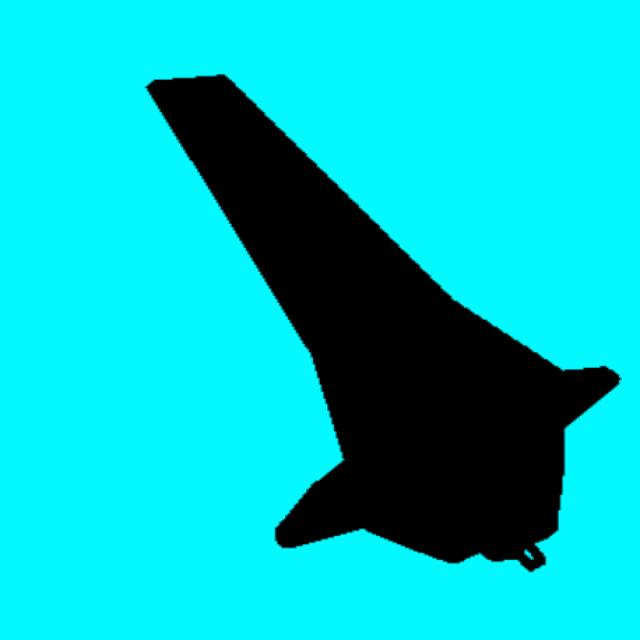BlackBuoy: (148, 78, 617, 569)
